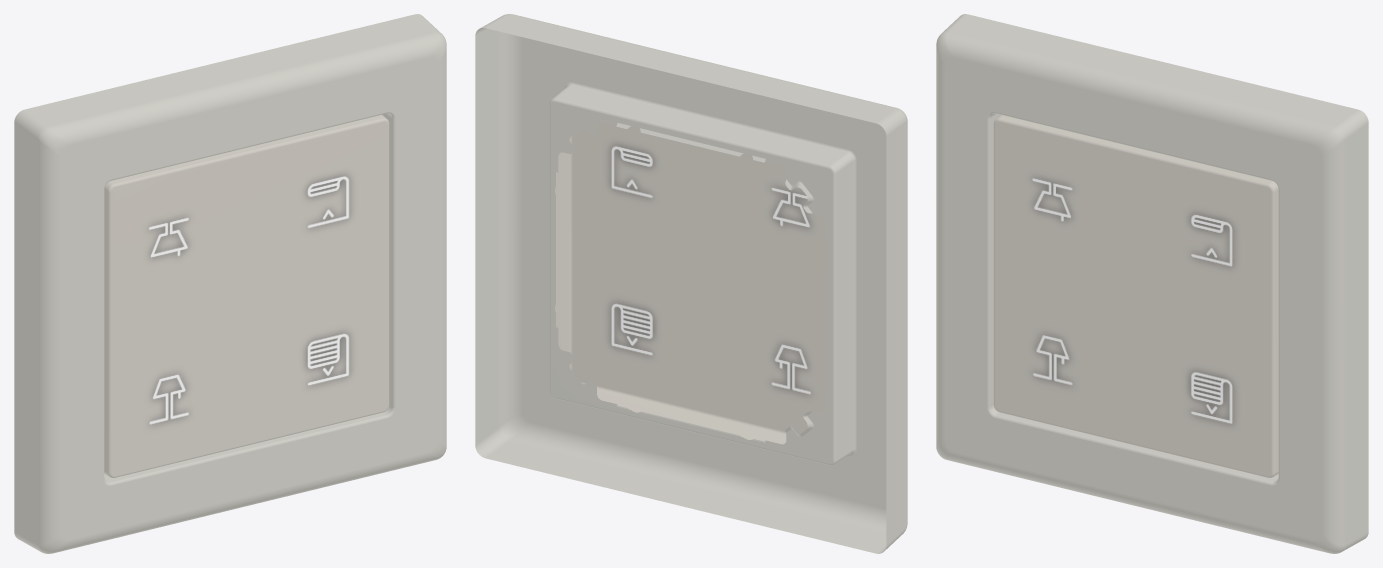
Rendered from MEG6185-0319_478119.glb.
The picture shows the model from 3 angles, left to right: view 1: azimuth 30°, elevation 25°; view 2: azimuth 150°, elevation 25°; view 3: azimuth 330°, elevation 25°; orthographic projection.
Parts seen in each view (by area): view 1: 478119_Baked, MEG6185-0319_Baked; view 2: 478119_Baked, MEG6185-0319_Baked; view 3: 478119_Baked, MEG6185-0319_Baked.
Boxes of the visible parts, x1=… form: 478119_Baked: x1=14, y1=14, x2=446, y2=553; MEG6185-0319_Baked: x1=104, y1=115, x2=389, y2=477; 478119_Baked: x1=475, y1=14, x2=907, y2=553; MEG6185-0319_Baked: x1=555, y1=121, x2=828, y2=444; 478119_Baked: x1=936, y1=14, x2=1368, y2=553; MEG6185-0319_Baked: x1=993, y1=115, x2=1278, y2=477.
Bounding box in the file's own units: 0.0805 × 0.0805 × 0.0102.
1 material, 1 textured.
